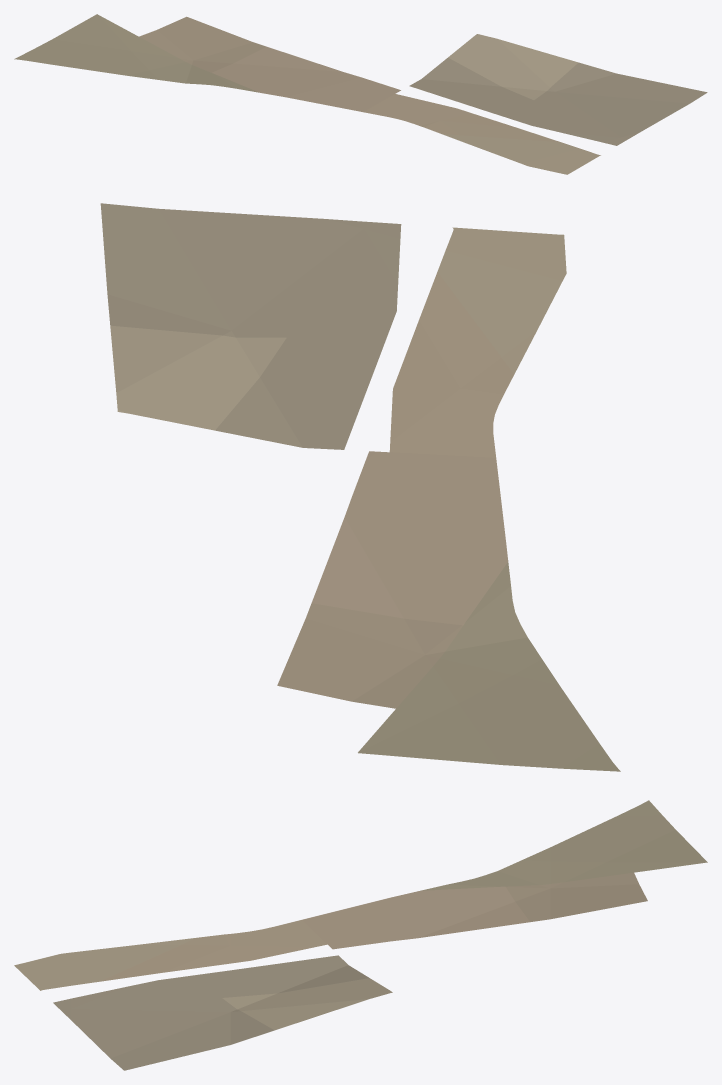
The model's file is farm_-6_16_soil.glb.
3 renders of one model, top to bottom at view 1: azimuth 30°, elevation 25°; view 2: azimuth 150°, elevation 25°; view 3: azimuth 270°, elevation 25°, orthographic. The views are drawn at different scales.
Parts seen in each view (by area): view 1: geometry_0; view 2: geometry_0; view 3: geometry_0.
Part boxes in pixels (bbox=[...]): geometry_0: bbox=[14, 14, 707, 174]; geometry_0: bbox=[100, 203, 620, 771]; geometry_0: bbox=[14, 800, 707, 1070].
Size of the model in its own units: 333 by 13.89 by 347.
